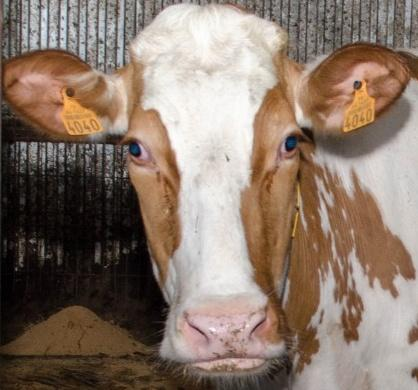muzzles: (154, 302, 294, 378)
